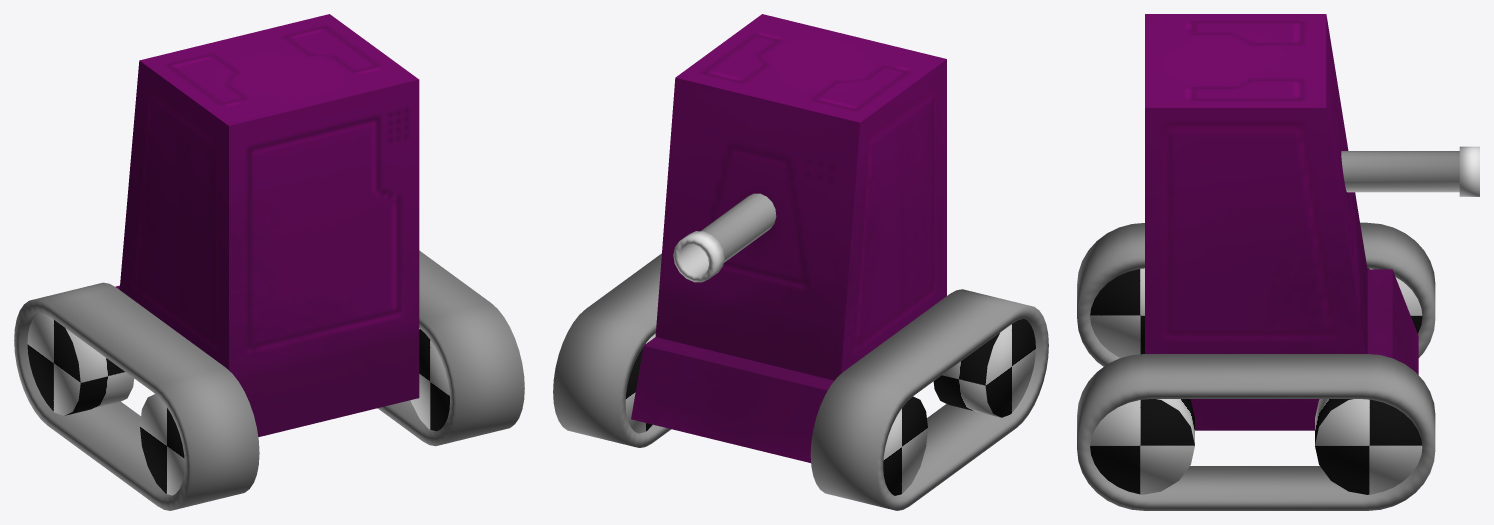
Rendered from tank-02.glb.
The picture shows the model from 3 angles, left to right: view 1: azimuth 30°, elevation 25°; view 2: azimuth 150°, elevation 25°; view 3: azimuth 270°, elevation 25°; orthographic projection. The views are drawn at different scales.
Parts seen in each view (by area): view 1: Body, Tracks-R, Tracks-L, Wheel-FL, Wheel-BL, Wheel-BR; view 2: Body, Tracks-R, Tracks-L, Wheel-BL, Barrel, Wheel-FL, Wheel-FR; view 3: Body, Tracks-L, Tracks-R, Wheel-FR, Wheel-BR, Barrel, Wheel-BL, Wheel-FL.
Boxes of the visible parts, x1,y1,x2,y2 form: Body: (115, 14, 419, 437); Tracks-R: (14, 282, 259, 510); Tracks-L: (378, 250, 524, 446); Wheel-FL: (27, 313, 134, 415); Wheel-BL: (140, 394, 184, 495); Wheel-BR: (410, 329, 449, 431); Body: (631, 14, 946, 462); Tracks-R: (810, 289, 1048, 510); Tracks-L: (553, 253, 671, 447); Wheel-BL: (933, 319, 1035, 417); Barrel: (673, 193, 776, 282); Wheel-FL: (883, 396, 927, 495); Wheel-FR: (625, 334, 655, 433); Body: (1145, 14, 1418, 430); Tracks-L: (1077, 354, 1435, 510); Tracks-R: (1077, 222, 1435, 366); Wheel-FR: (1315, 399, 1422, 494); Wheel-BR: (1090, 399, 1194, 494); Barrel: (1341, 146, 1479, 196); Wheel-BL: (1090, 268, 1144, 357); Wheel-FL: (1367, 268, 1422, 333).
Bounding box in the file's own units: 3.51 × 3.64 × 3.62.
2 materials, 2 textured.
